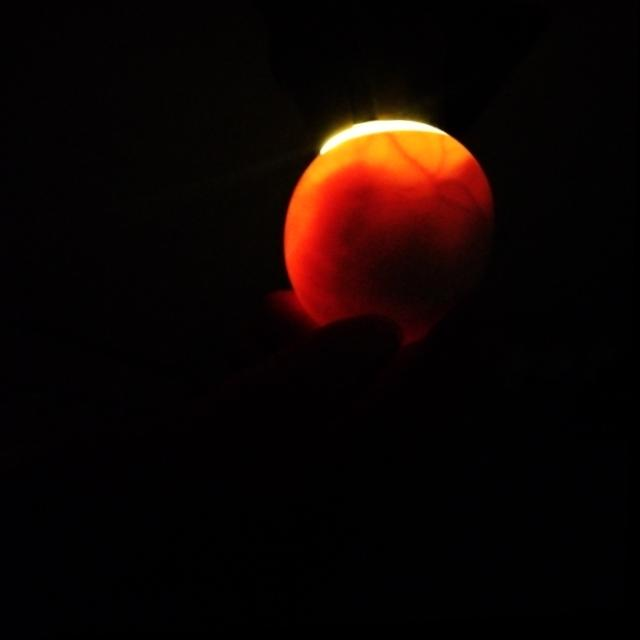Embriao: (322, 214, 489, 338)
